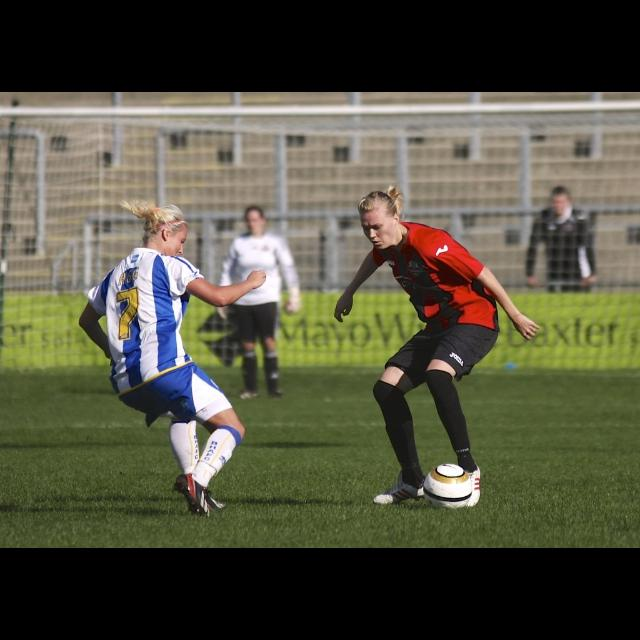Football: (424, 460, 476, 506)
